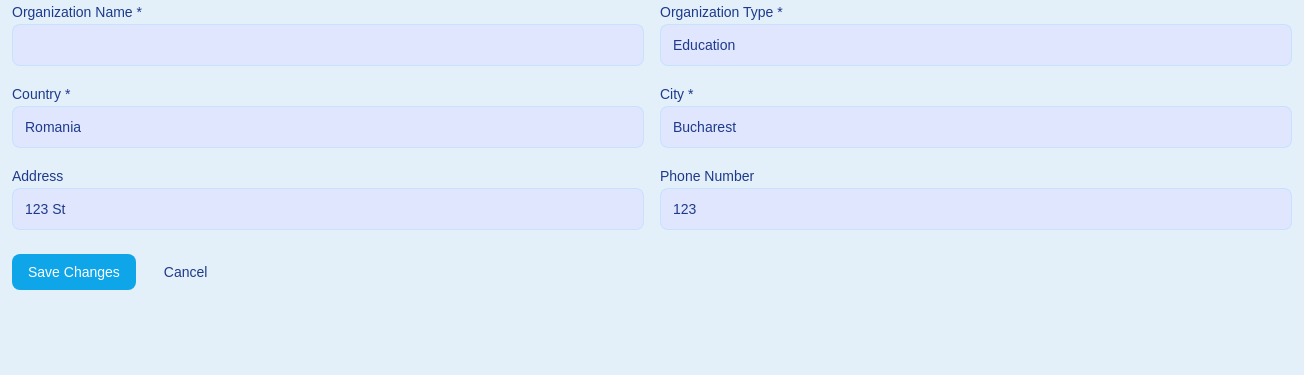
Test: OrganizationInlineEditForm › shows validation error when name is empty
What coordinates should you click on to do the following:
click the button "Save Changes"
I would click on:
 (74, 272)
Its box is [12,254,136,290].
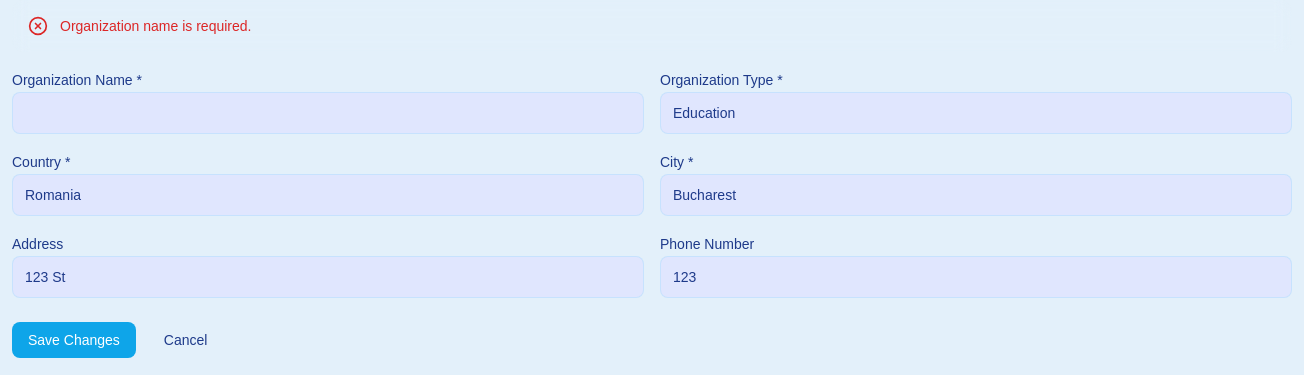
Expected: the text "Organization name is required." is shown, [60,16,251,36]
